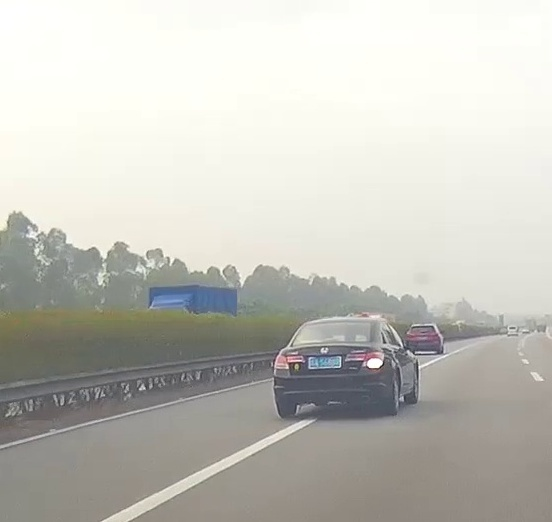L_light: (273, 354, 305, 369), (407, 333, 413, 338)
R_light: (344, 351, 384, 368), (432, 334, 438, 337)
T_light: (327, 323, 342, 325), (420, 327, 426, 328)
day-no: (406, 324, 440, 354)
day-right: (273, 319, 385, 418)
